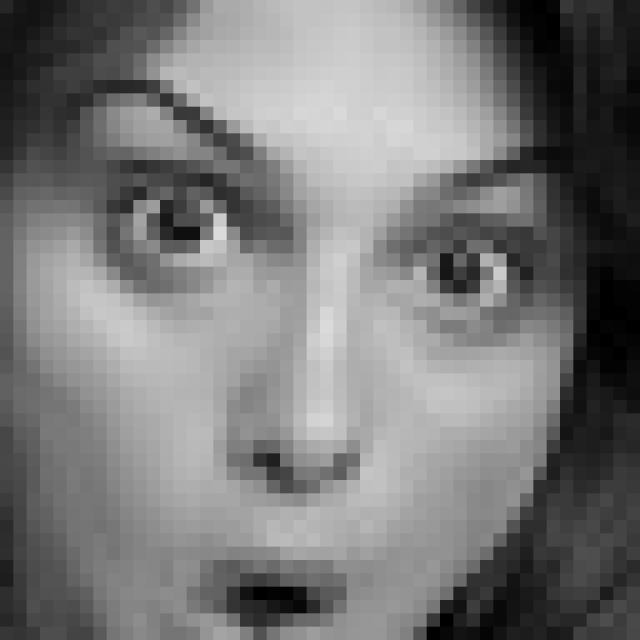surprise: (42, 68, 560, 640)
